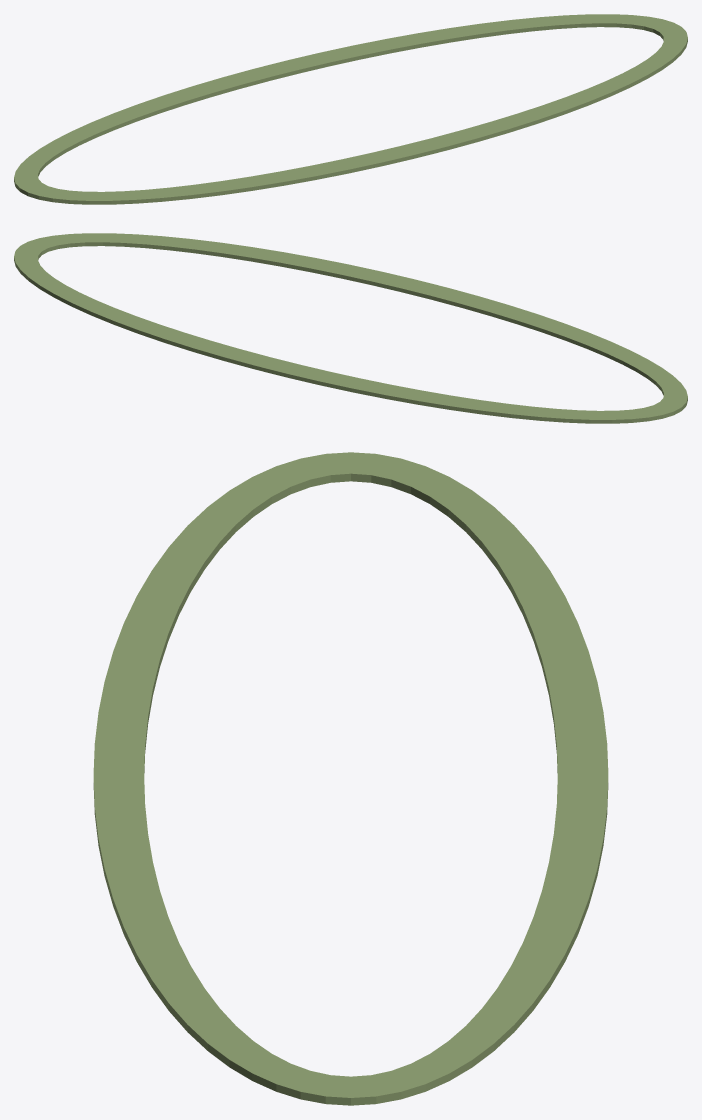
The model's file is resistance-band.v1.glb.
The picture shows the model from 3 angles, top to bottom: view 1: azimuth 30°, elevation 25°; view 2: azimuth 150°, elevation 25°; view 3: azimuth 270°, elevation 25°; orthographic projection. The views are drawn at different scales.
Visible parts, largest first — view 1: Loop band; view 2: Loop band; view 3: Loop band.
Part boxes in pixels (left/top/right/bottom): Loop band: left=14, top=14, right=687, bottom=204; Loop band: left=14, top=233, right=687, bottom=423; Loop band: left=93, top=452, right=608, bottom=1105.
Bounding box in the file's own units: 0.724 × 0.004 × 0.244.
